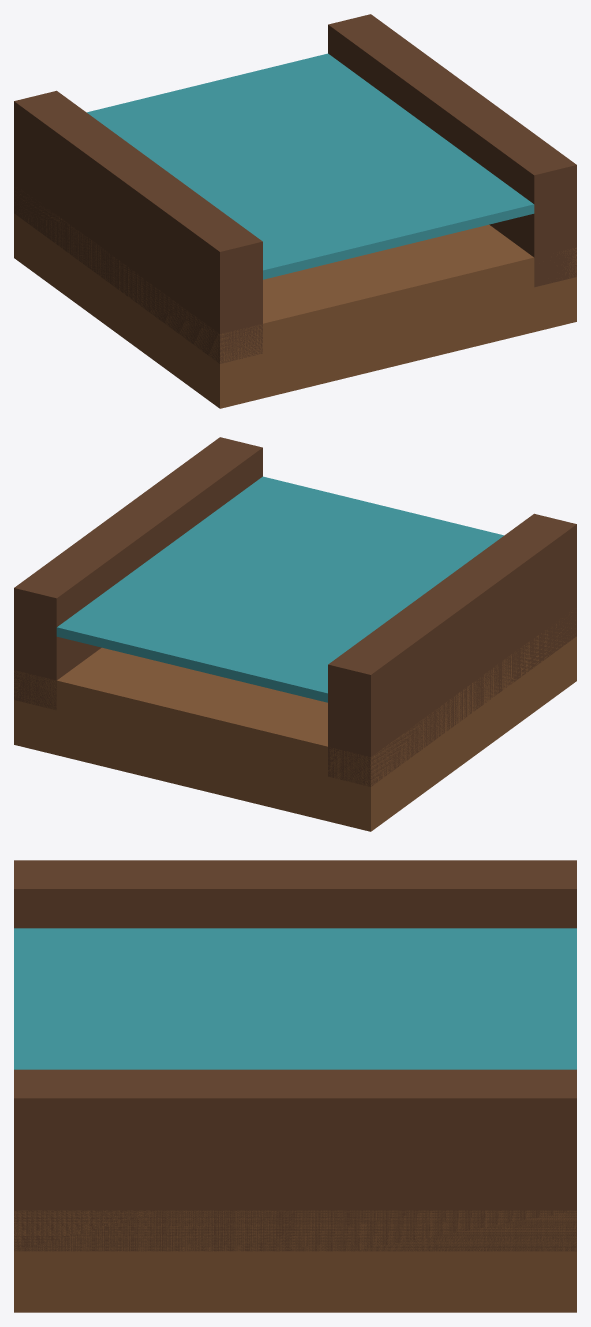
File: irrigation_channel.glb
3 views of the same model, one above another, from view 1: azimuth 30°, elevation 25°; view 2: azimuth 150°, elevation 25°; view 3: azimuth 270°, elevation 25° (orthographic). The views are drawn at different scales.
Parts seen in each view (by area): view 1: irrigation_channel_Mesh; view 2: irrigation_channel_Mesh; view 3: irrigation_channel_Mesh.
Part boxes in pixels (x1,y1,x2,y2): irrigation_channel_Mesh: [14, 14, 576, 408]; irrigation_channel_Mesh: [14, 437, 576, 831]; irrigation_channel_Mesh: [14, 860, 576, 1312].
Size of the model in its own units: 1 by 0.42 by 1.
